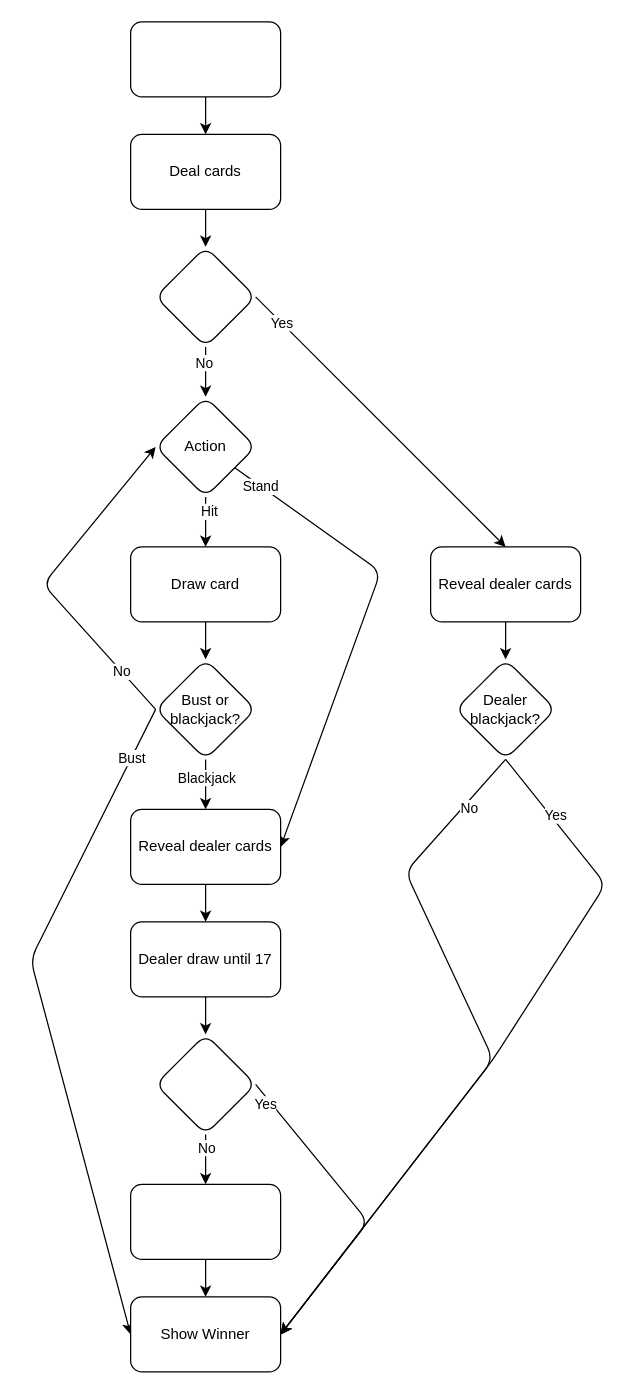
The diagram is 638 pixels wide and 1394 high, and some of its shapes have lost their labels. The shapes that lost their labels are listed below. From the top down, each one's centre as x and y in pixels, then its label:
At point (205, 59): "Start".
At point (205, 296): "Blackjack?".
At point (205, 1083): "Dealer bust?".
At point (205, 1221): "Compare hands".
